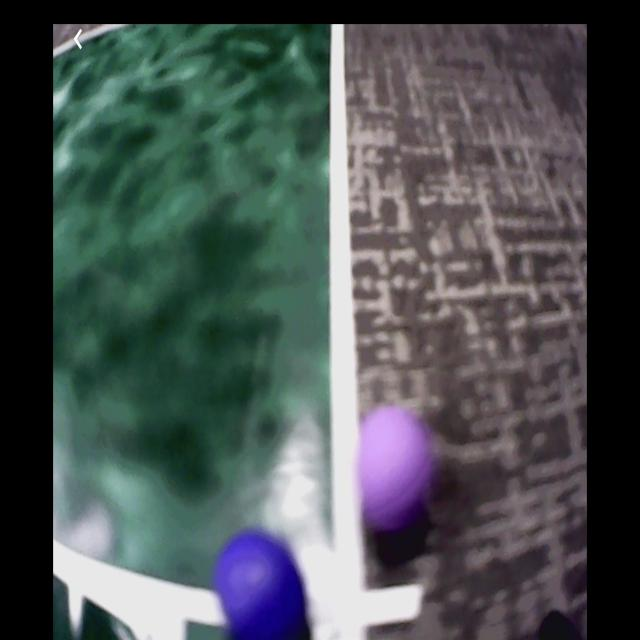ball: (215, 533, 305, 640), (357, 409, 433, 529)
